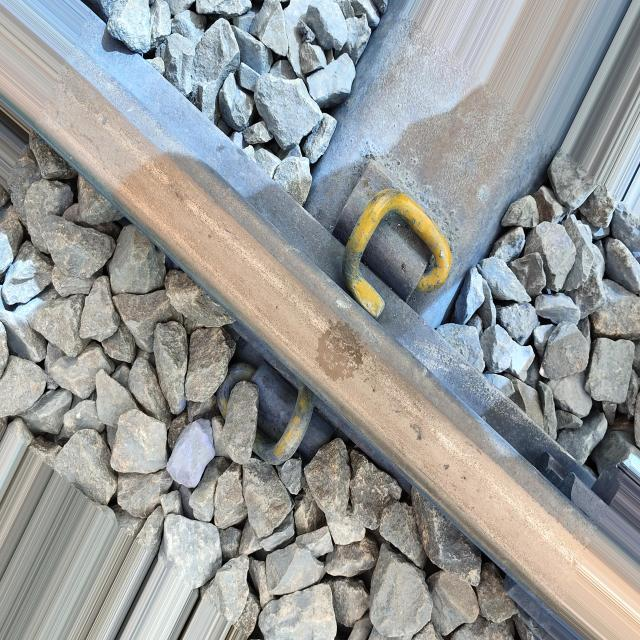Good Fasteners: (333, 163, 451, 318), (216, 362, 335, 465)
